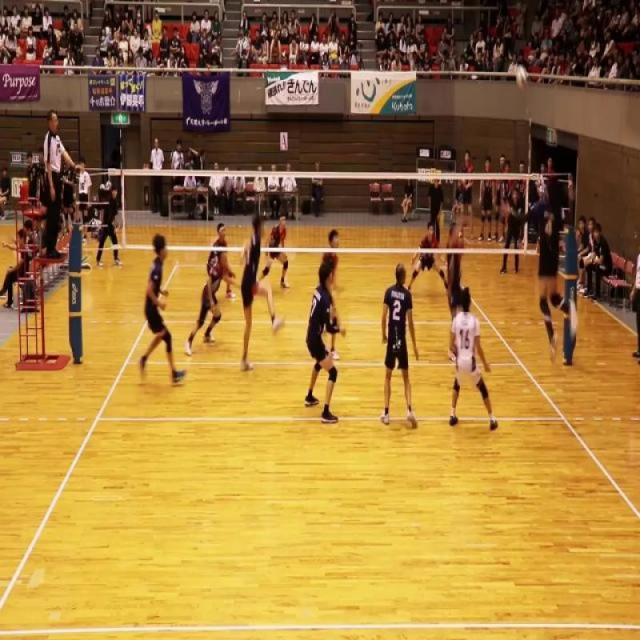volleyball: (516, 63, 528, 93)
